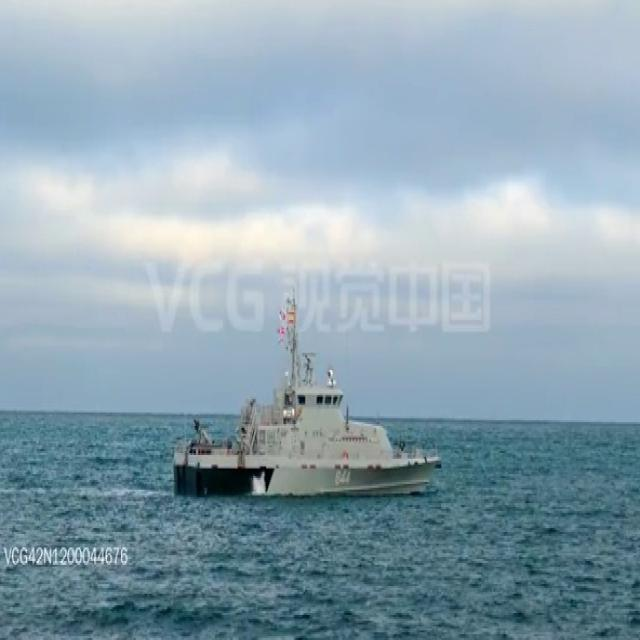houseboat: (173, 290, 441, 496)
